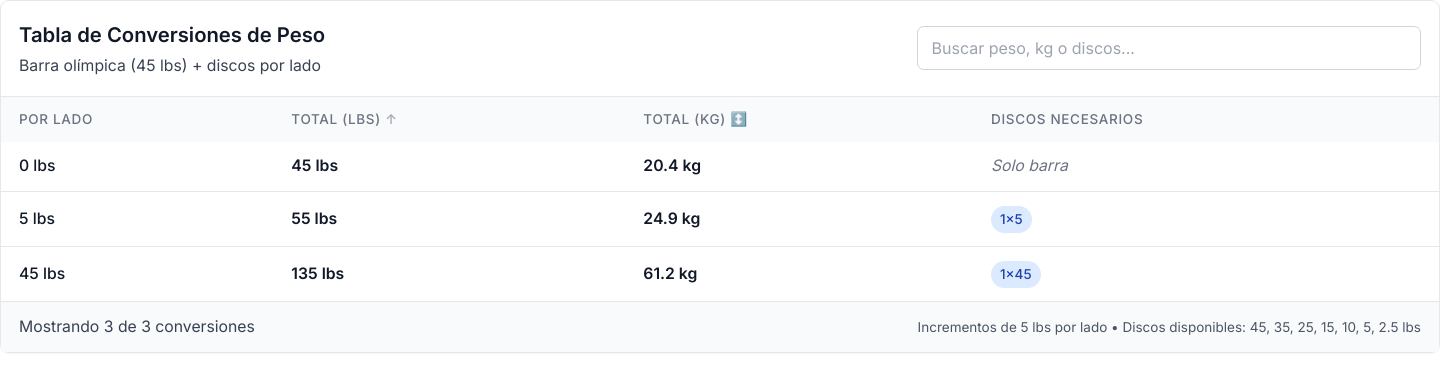
WeightConversionsTable › sorts conversions by kg
# Click to sort by kg
Click the column heading "Total (kg)". click: (685, 119)
box: [625,96,973,142]
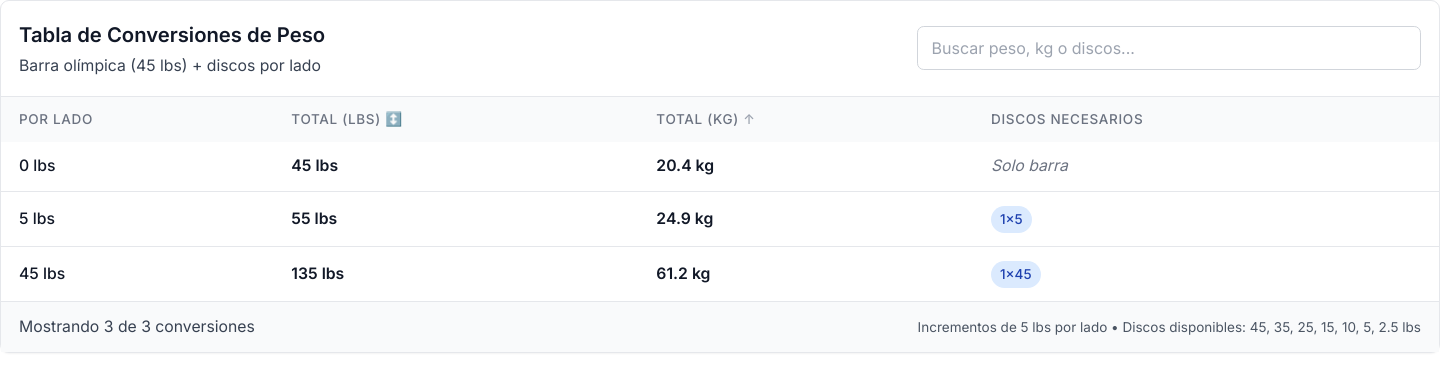
Now the text "↑" is shown, box [743,110,756,128]
